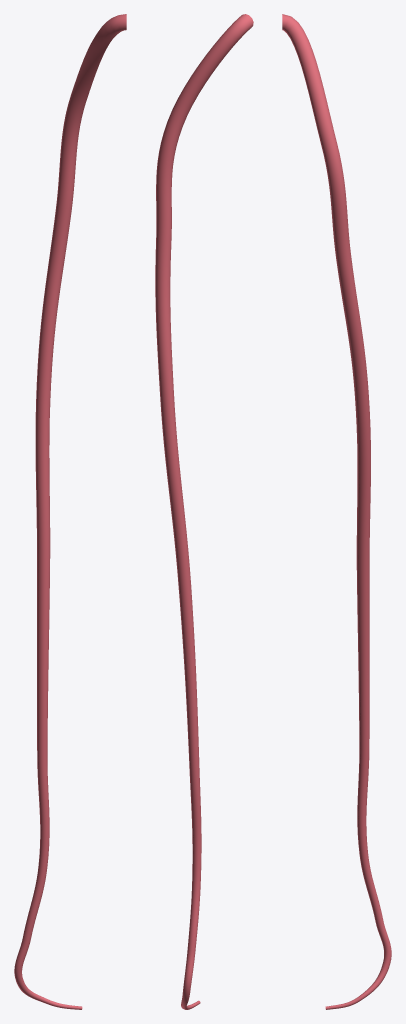
3 views of the same model, side by side, from view 1: azimuth 90°, elevation 25°; view 2: azimuth 150°, elevation 25°; view 3: azimuth 270°, elevation 25° (orthographic). The views are drawn at different scales.
Parts seen in each view (by area): view 1: ZA_f8e604442732ab99; view 2: ZA_f8e604442732ab99; view 3: ZA_f8e604442732ab99.
Boxes of the visible parts, bbox=[...] form: ZA_f8e604442732ab99: bbox=[14, 14, 126, 1009]; ZA_f8e604442732ab99: bbox=[155, 14, 253, 1009]; ZA_f8e604442732ab99: bbox=[282, 14, 391, 1009].
Size of the model in its own units: 0.0234 by 0.3214 by 0.0324.
